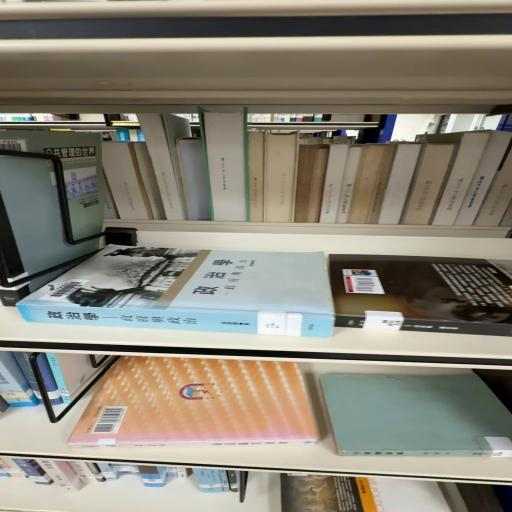flat: (18, 246, 336, 338), (69, 357, 319, 449), (321, 375, 512, 463)
